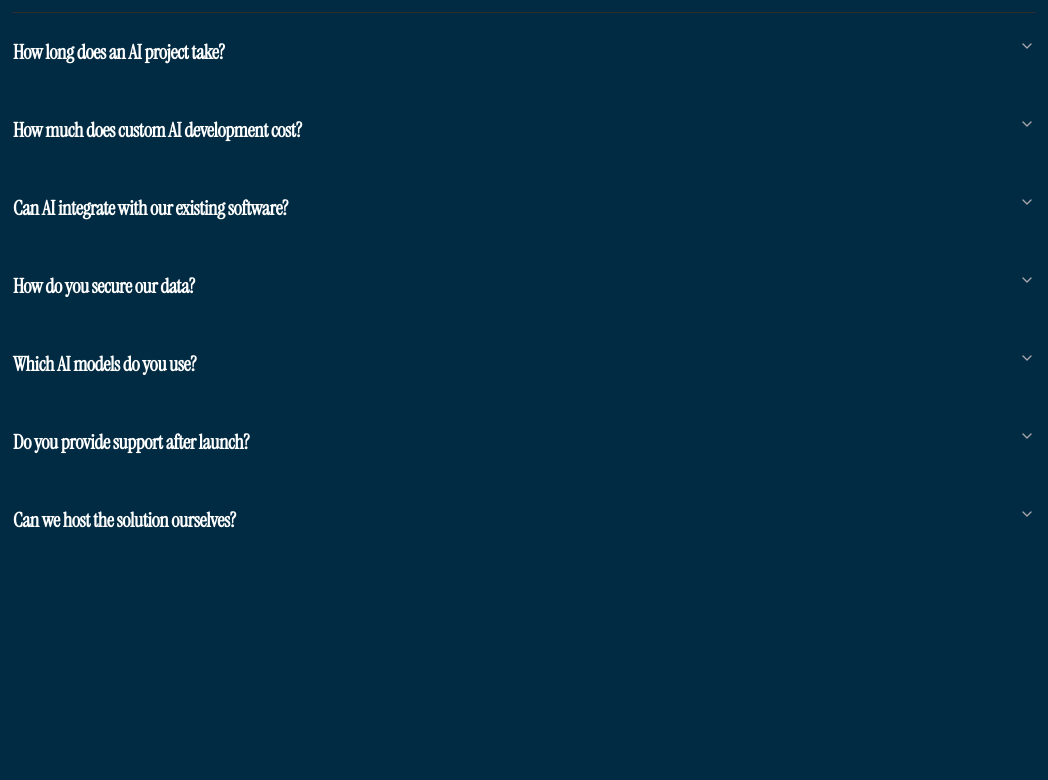
Scenario: FaqSection › reveals the visible answer associated with a question
Click the button "How long does an AI project take?": [119, 52] box top-left (12, 13), bottom-right (1036, 91)
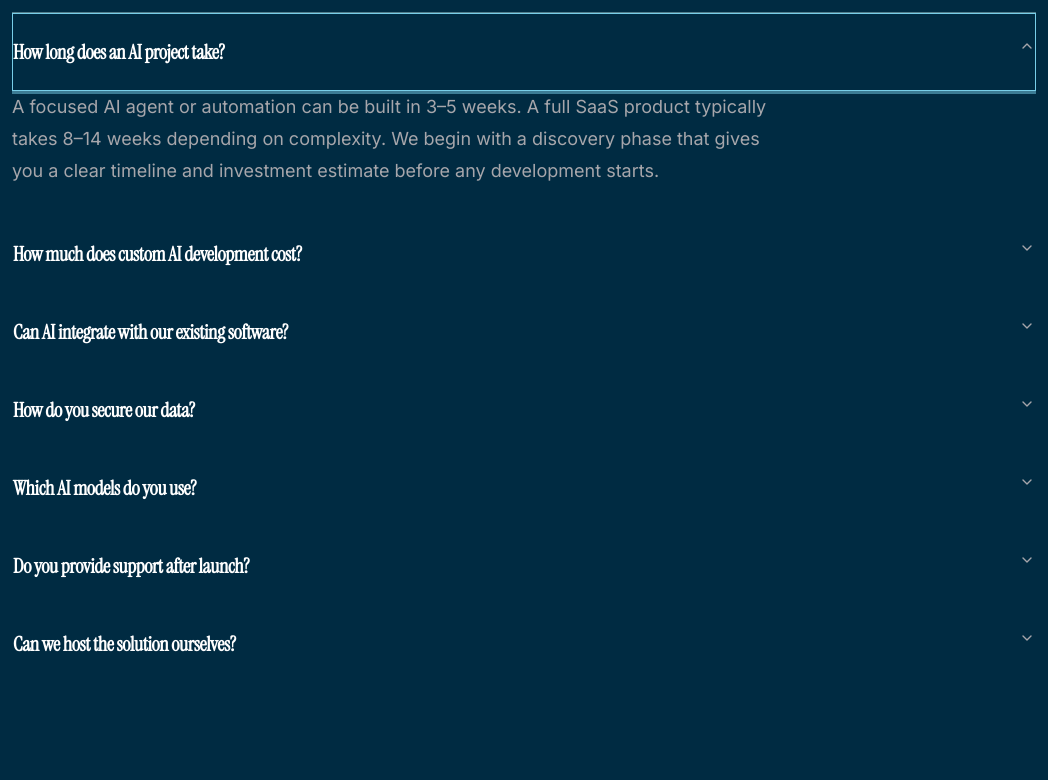
Check: the button "How long does an AI project take?" is expanded, box top-left (12, 13), bottom-right (1036, 91)
Check: the text "3–5 weeks" is shown, box top-left (12, 96), bottom-right (766, 181)
